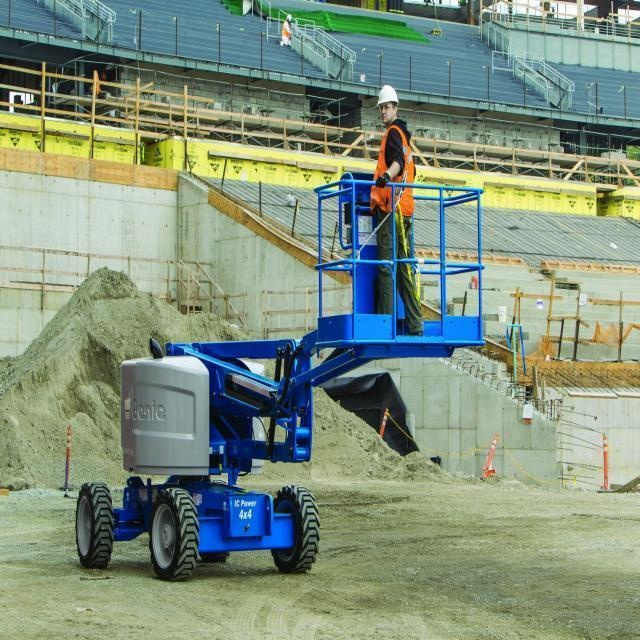Arnes_seguridad: (370, 121, 414, 214)
